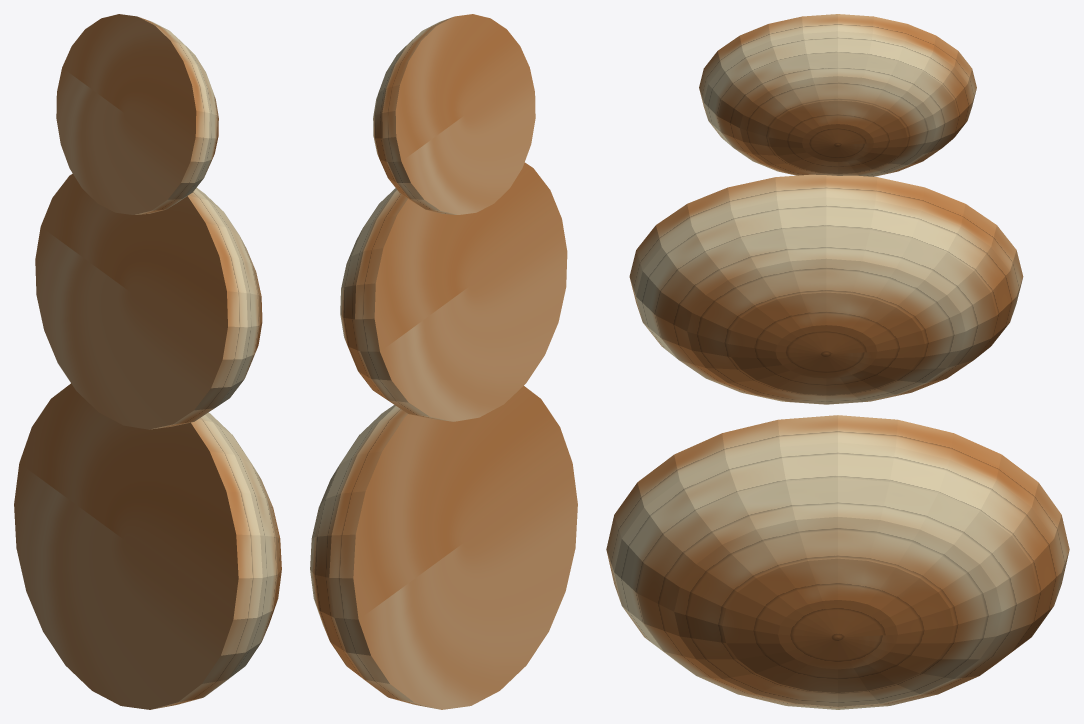
The model's file is bracket_fungus_v1.glb.
The picture shows the model from 3 angles, left to right: view 1: azimuth 30°, elevation 25°; view 2: azimuth 150°, elevation 25°; view 3: azimuth 270°, elevation 25°; orthographic projection. The views are drawn at different scales.
Parts seen in each view (by area): view 1: bracket_fungus_v1; view 2: bracket_fungus_v1; view 3: bracket_fungus_v1.
Boxes of the visible parts, <box> form: bracket_fungus_v1: <box>14,14,281,709</box>; bracket_fungus_v1: <box>310,14,577,709</box>; bracket_fungus_v1: <box>606,14,1069,709</box>.
Bounding box in the file's own units: 0.0795 × 0.3363 × 0.2.
Materials: 1 (1 with a texture image).
